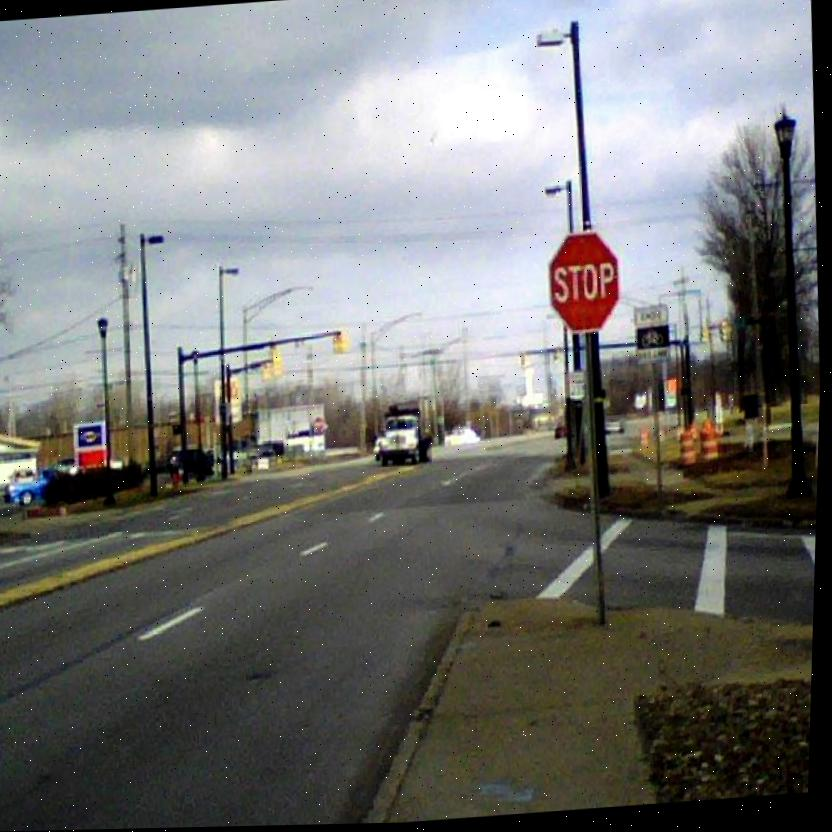Pole: (580, 343, 616, 633), (651, 360, 671, 502)
Sign: (547, 233, 625, 339)
